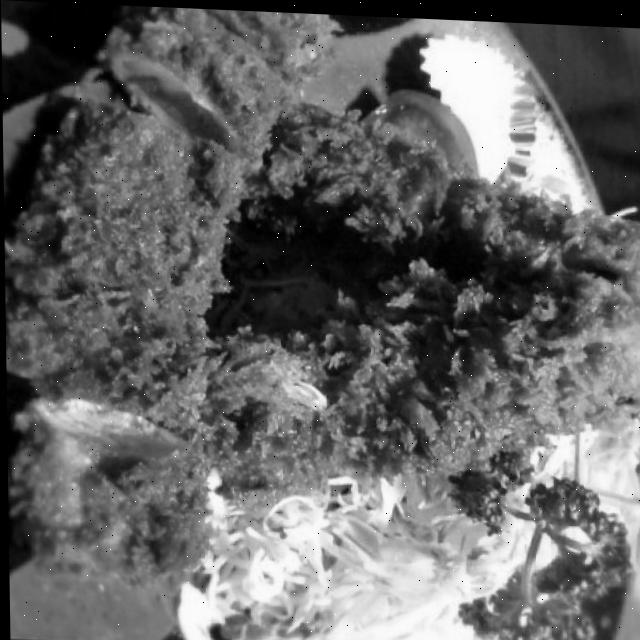牛肉菜式: (0, 0, 630, 636)
